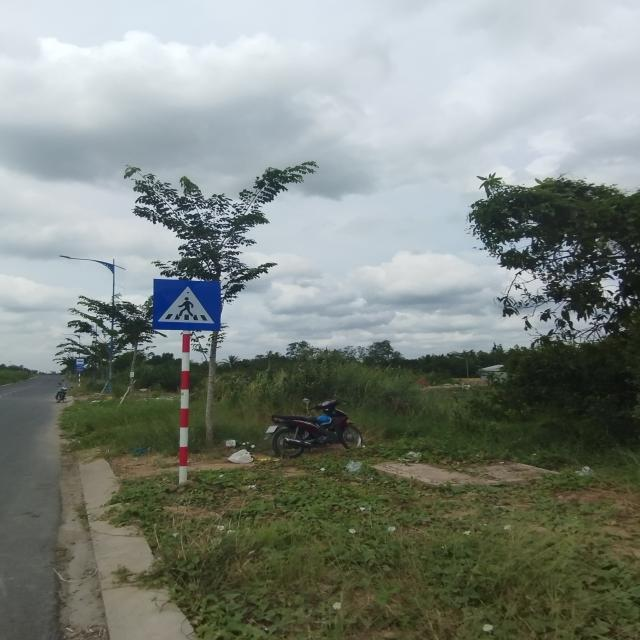Giao_Nhau_Duong_Uu_Tien: (154, 279, 220, 330)
